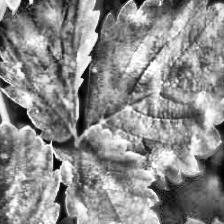Powdery Mildew Leaf: (83, 0, 224, 191), (0, 0, 101, 144), (50, 124, 161, 224), (0, 120, 63, 224)
